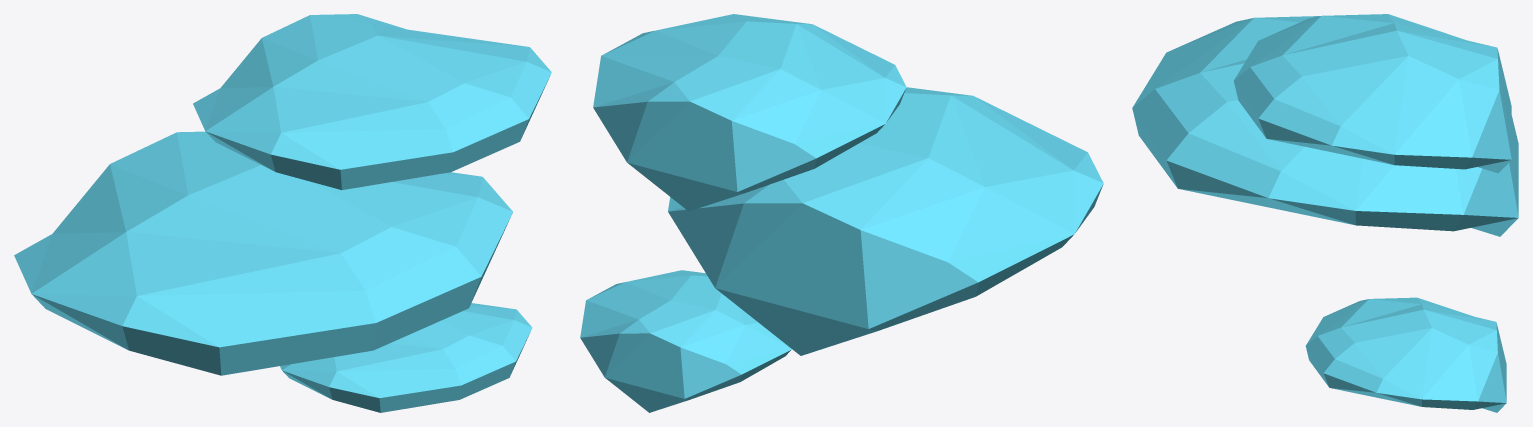
File: Mushroom_02.FBX
3 renders of one model, left to right at view 1: azimuth 30°, elevation 25°; view 2: azimuth 150°, elevation 25°; view 3: azimuth 270°, elevation 25°, orthographic. The views are drawn at different scales.
Parts seen in each view (by area): view 1: Mushroom_02; view 2: Mushroom_02; view 3: Mushroom_02.
Part boxes in pixels (x1=…): Mushroom_02: x1=14, y1=14, x2=551, y2=412; Mushroom_02: x1=580, y1=14, x2=1103, y2=412; Mushroom_02: x1=1132, y1=14, x2=1518, y2=412.
Size of the model in its own units: 18.49 by 12.96 by 13.2.
